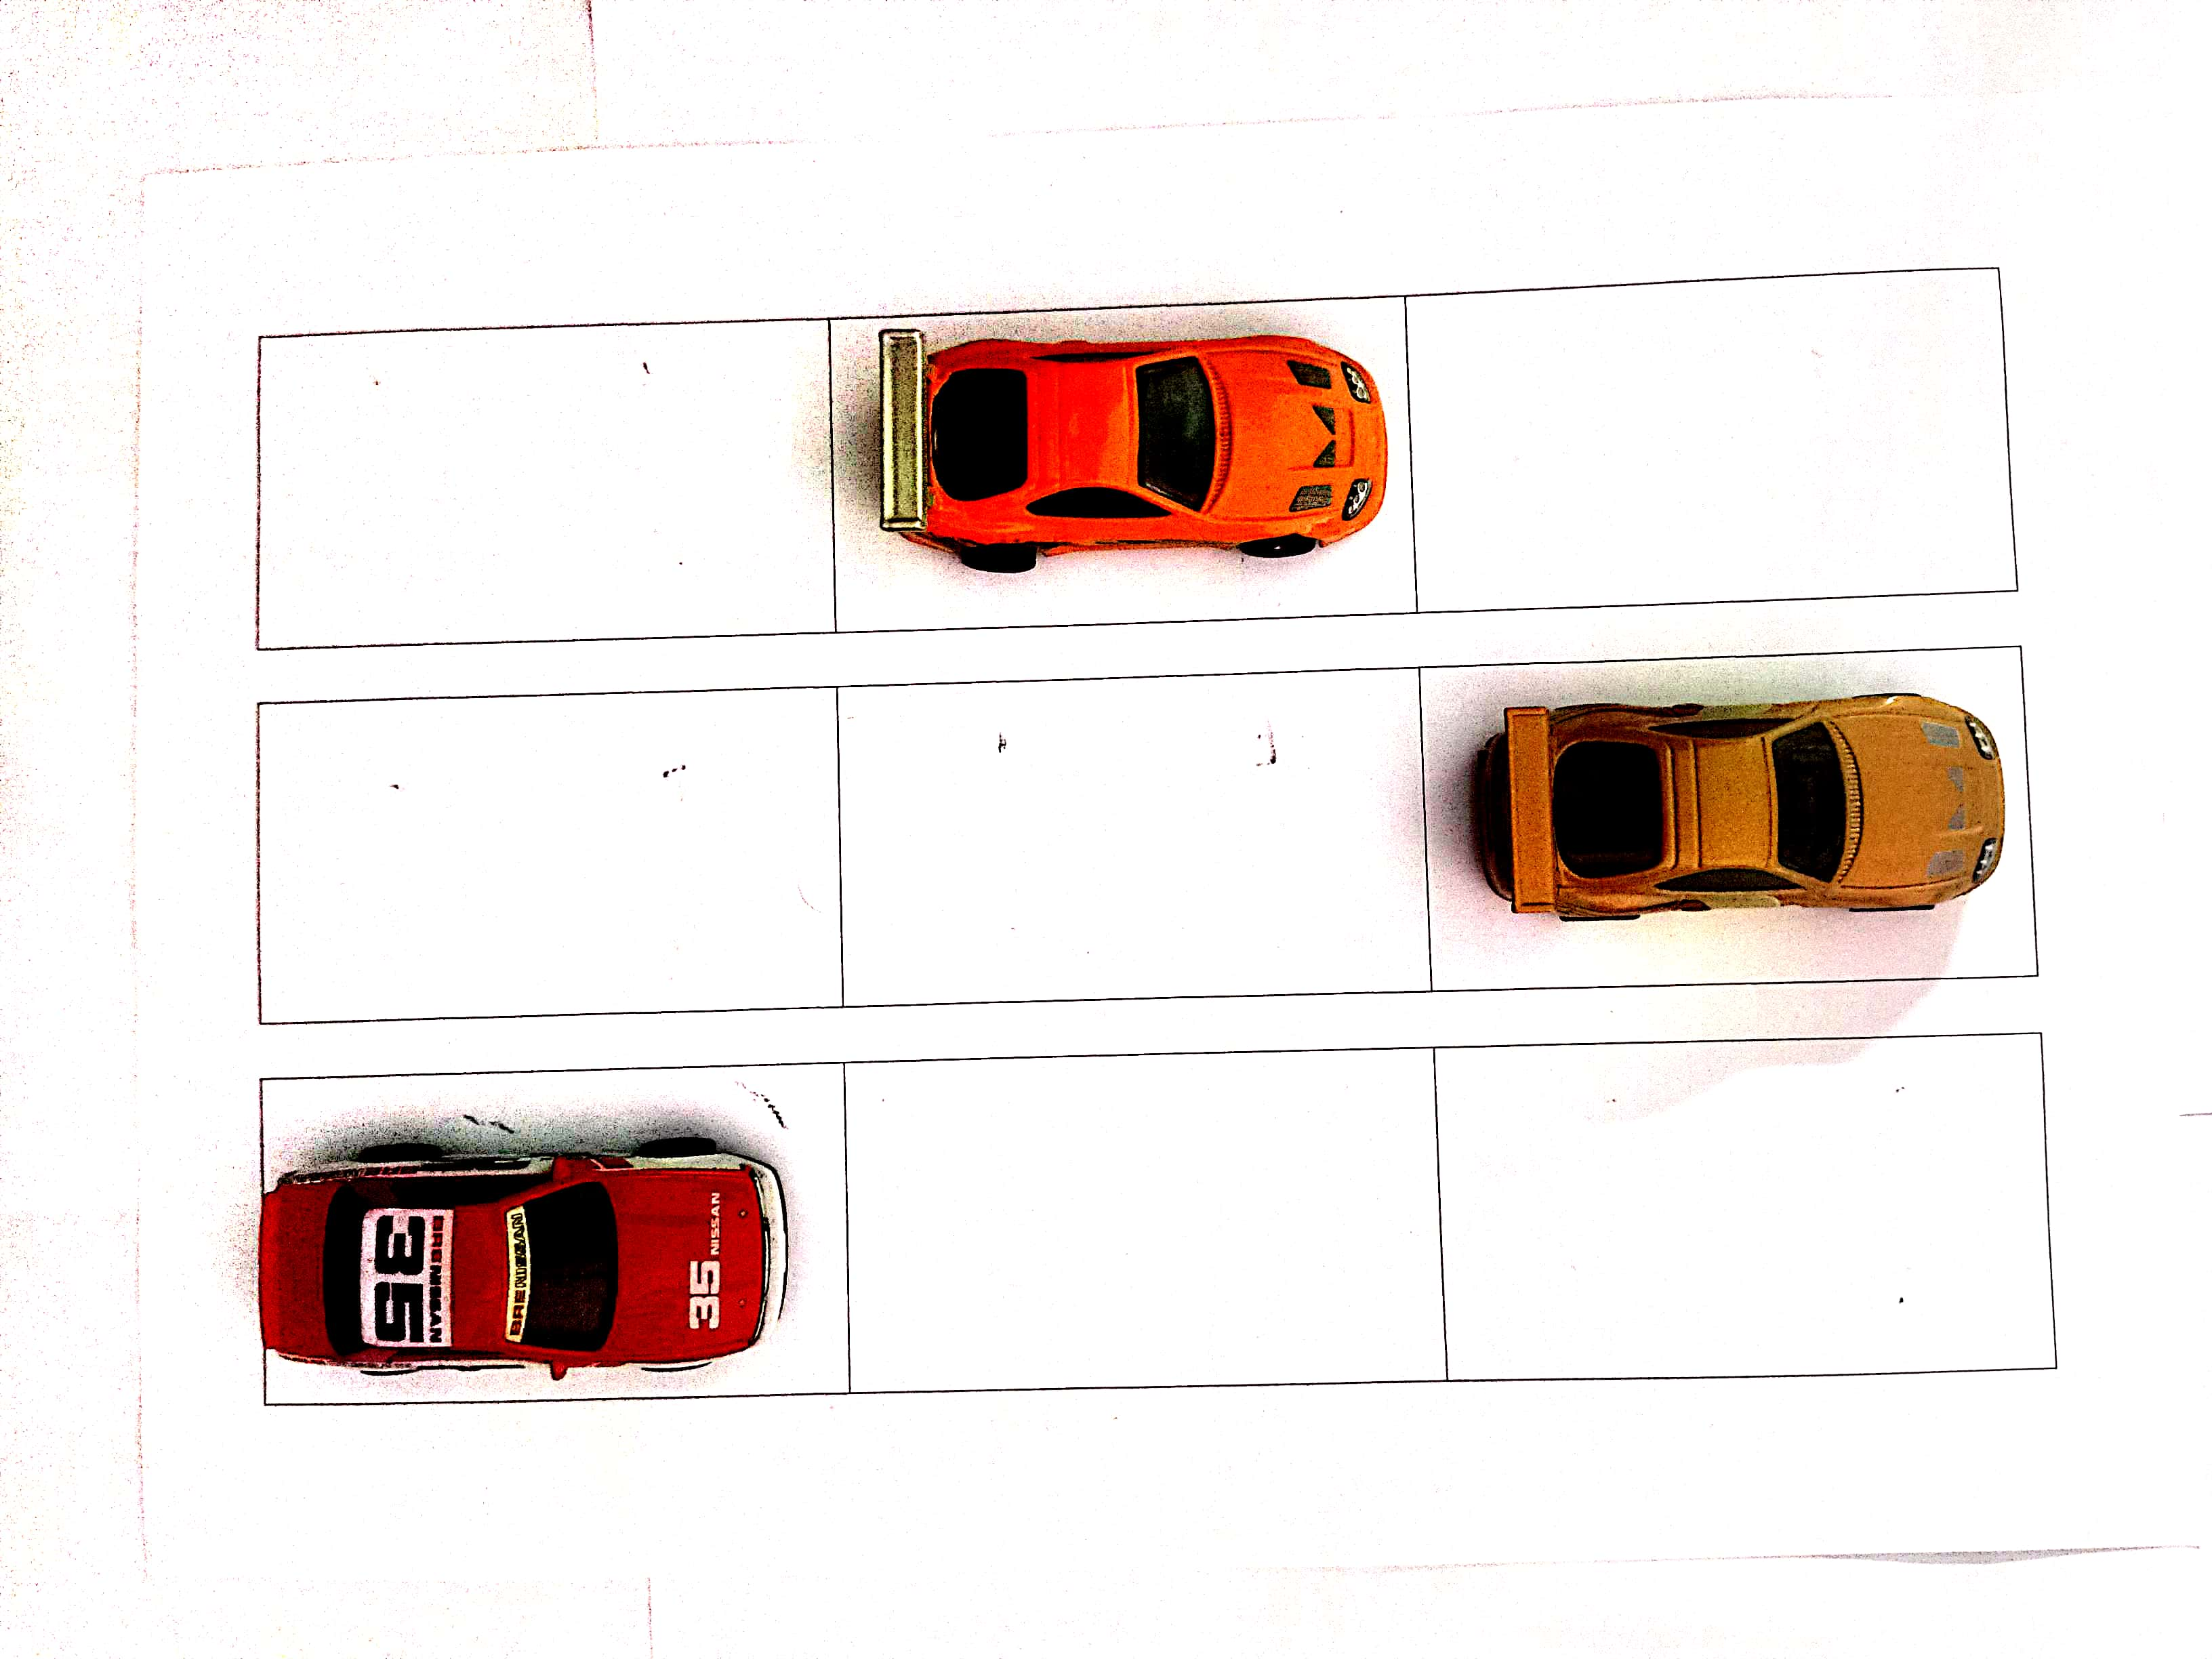Busy: (1432, 640, 2020, 992), (268, 1073, 840, 1392), (836, 300, 1399, 622)
Free: (1442, 1037, 2038, 1378), (840, 662, 1425, 997), (1416, 275, 1991, 610), (251, 701, 836, 1023), (848, 1061, 1442, 1371), (261, 335, 834, 640)
